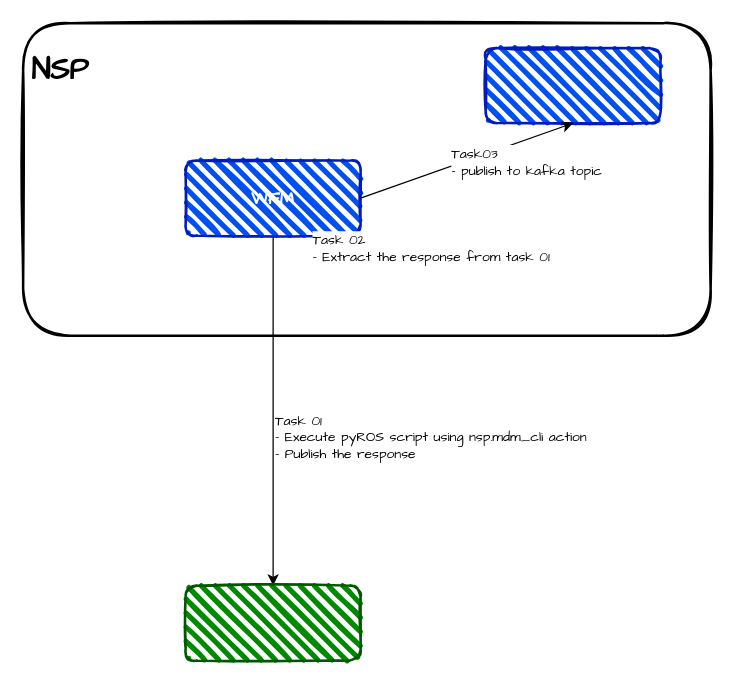
Image size: 733x683. Some labels were removed from this diagram. Each missing label, with the box of its shape:
BNG: (184, 584, 361, 661)
KAFKA: (484, 46, 661, 124)
